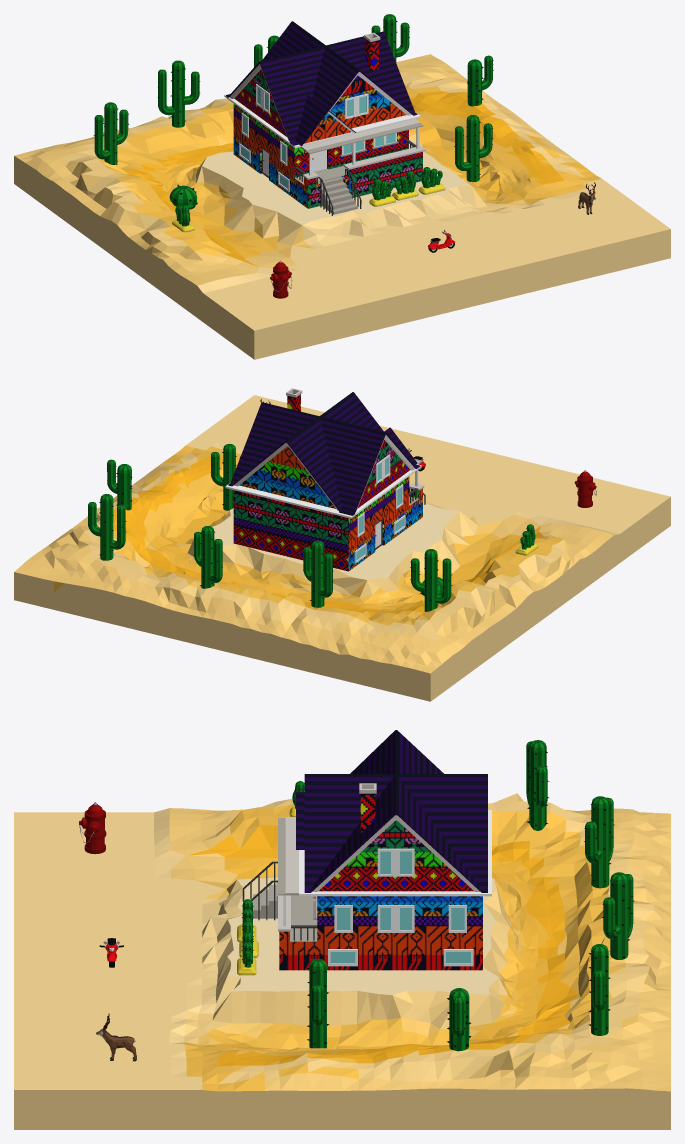
3 renders of one model, top to bottom at view 1: azimuth 30°, elevation 25°; view 2: azimuth 150°, elevation 25°; view 3: azimuth 270°, elevation 25°, orthographic. The views are drawn at different scales.
Visible parts, largest first — view 1: Cube.001, Cube.966, Cylinder.037, Cylinder.044, Cylinder.045, Cylinder.038, Cylinder.042, OBJRANDOM_FIRE_HYDRANT, Cylinder.039, Cylinder.041, Sphere.023, Cylinder.040; view 2: Cube.001, Cube.966, Cylinder.042, Cylinder.045, Cylinder.044, Cylinder.043, Cylinder.037, Cylinder.038, OBJRANDOM_FIRE_HYDRANT; view 3: Cube.001, Cube.966, Cylinder.043, Cylinder.044, Cylinder.045, Cylinder.042, Cylinder.037, Cylinder.038, OBJRANDOM_FIRE_HYDRANT, Cylinder.041, ANIMAL_VENADO.
Boxes of the visible parts, bbox=[...] form: Cube.001: bbox=[14, 54, 670, 359]; Cube.966: bbox=[224, 21, 425, 215]; Cylinder.037: bbox=[454, 115, 493, 182]; Cylinder.044: bbox=[157, 60, 200, 127]; Cylinder.045: bbox=[93, 102, 129, 164]; Cylinder.038: bbox=[467, 55, 493, 106]; Cylinder.042: bbox=[371, 14, 409, 62]; OBJRANDOM_FIRE_HYDRANT: bbox=[270, 260, 292, 298]; Cylinder.039: bbox=[369, 179, 395, 206]; Cylinder.041: bbox=[418, 167, 445, 194]; Sphere.023: bbox=[169, 184, 197, 209]; Cylinder.040: bbox=[392, 171, 418, 200]; Cube.001: bbox=[14, 395, 670, 701]; Cube.966: bbox=[225, 388, 425, 571]; Cylinder.042: bbox=[88, 494, 126, 560]; Cylinder.045: bbox=[410, 549, 452, 611]; Cylinder.044: bbox=[303, 540, 333, 607]; Cylinder.043: bbox=[193, 526, 222, 588]; Cylinder.037: bbox=[211, 444, 240, 510]; Cylinder.038: bbox=[107, 459, 131, 510]; OBJRANDOM_FIRE_HYDRANT: bbox=[574, 470, 596, 507]; Cube.001: bbox=[14, 793, 670, 1129]; Cube.966: bbox=[242, 730, 491, 970]; Cylinder.043: bbox=[602, 872, 634, 959]; Cylinder.044: bbox=[584, 796, 614, 888]; Cylinder.045: bbox=[526, 740, 549, 830]; Cylinder.042: bbox=[588, 944, 610, 1035]; Cylinder.037: bbox=[307, 959, 329, 1048]; Cylinder.038: bbox=[447, 988, 471, 1051]; OBJRANDOM_FIRE_HYDRANT: bbox=[79, 802, 106, 854]; Cylinder.041: bbox=[237, 932, 256, 975]; ANIMAL_VENADO: bbox=[96, 1013, 136, 1061].
Bounding box in the file's own units: 4002 × 1728 × 4001.
35 materials, 6 textured.
